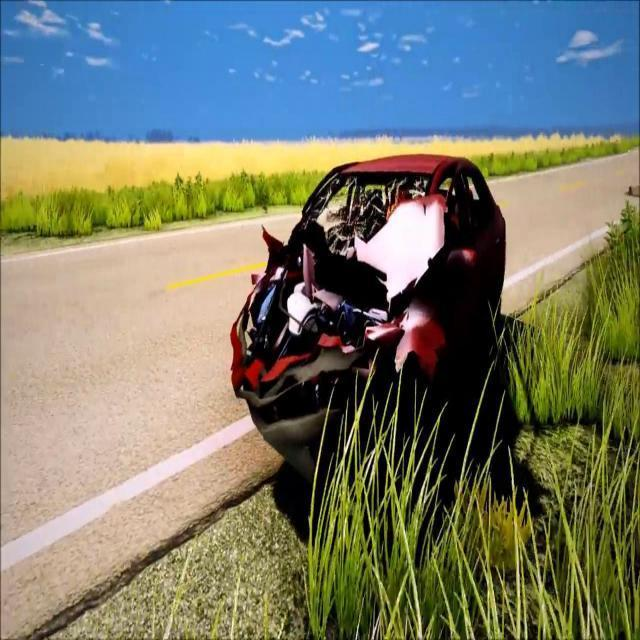severe: (228, 156, 514, 457)
